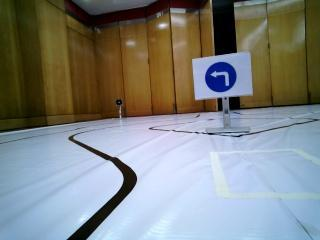left: (196, 56, 251, 95)
